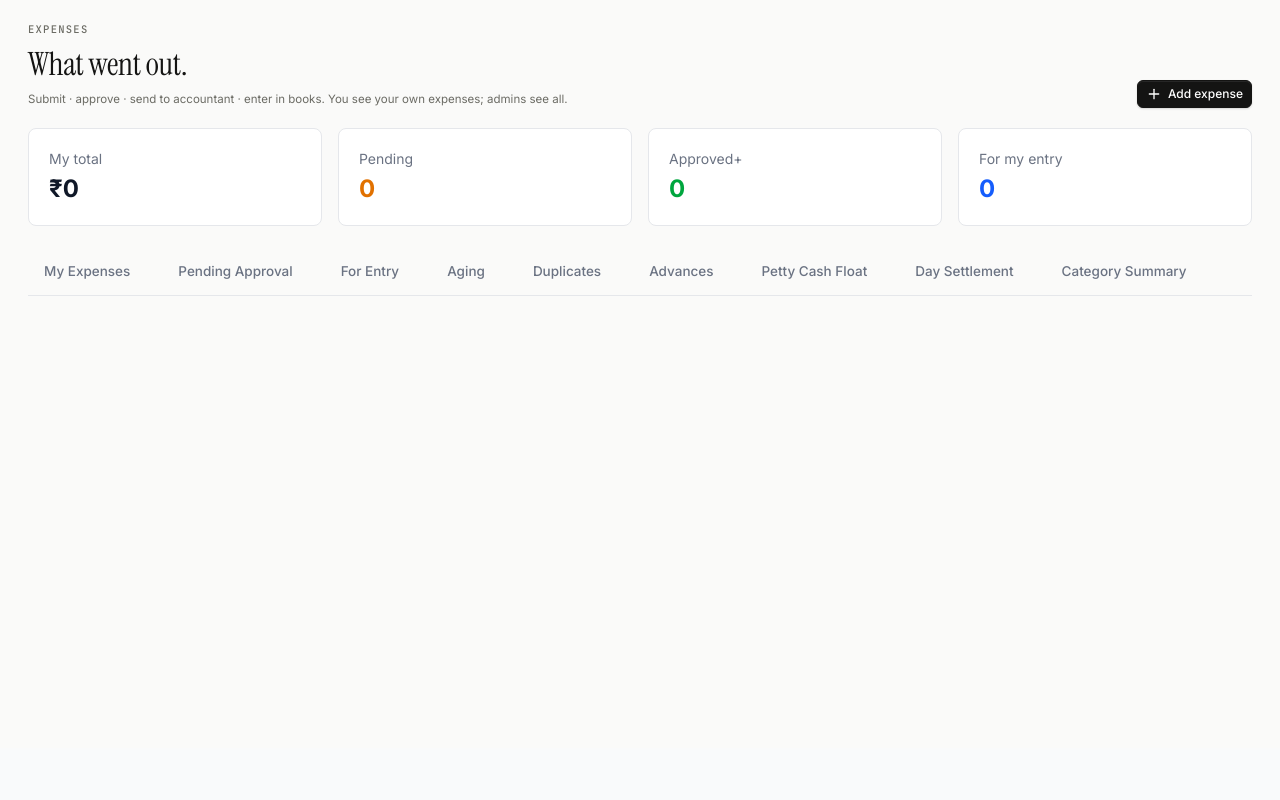
Scenario: a new expense at 2027-03-31T09:00:00Z is dated 2027-03-31
The image size is (1280, 800).
Step 1. Click the button "Add expense" → click(1194, 94), box [1137,80,1252,108]
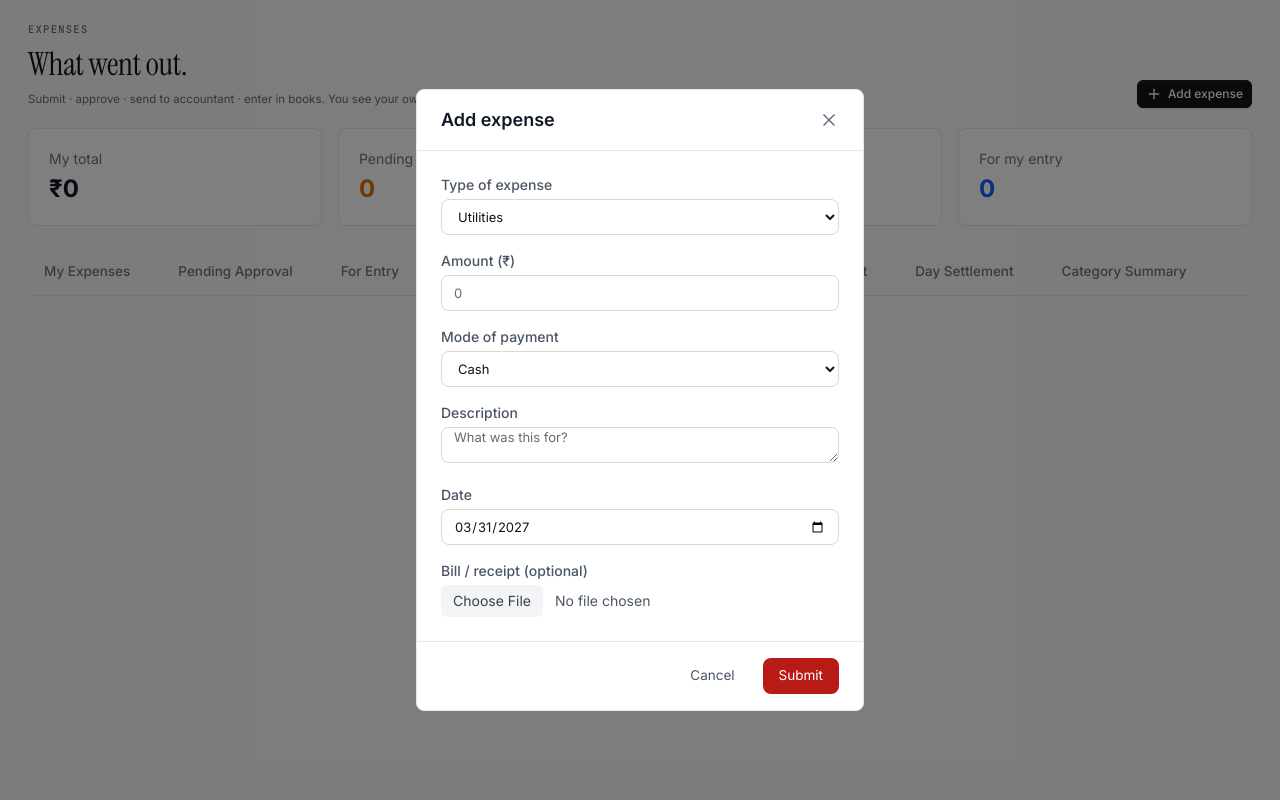
Expected: the date field labelled "Date" holds "2027-03-31", [441,509,839,545]
